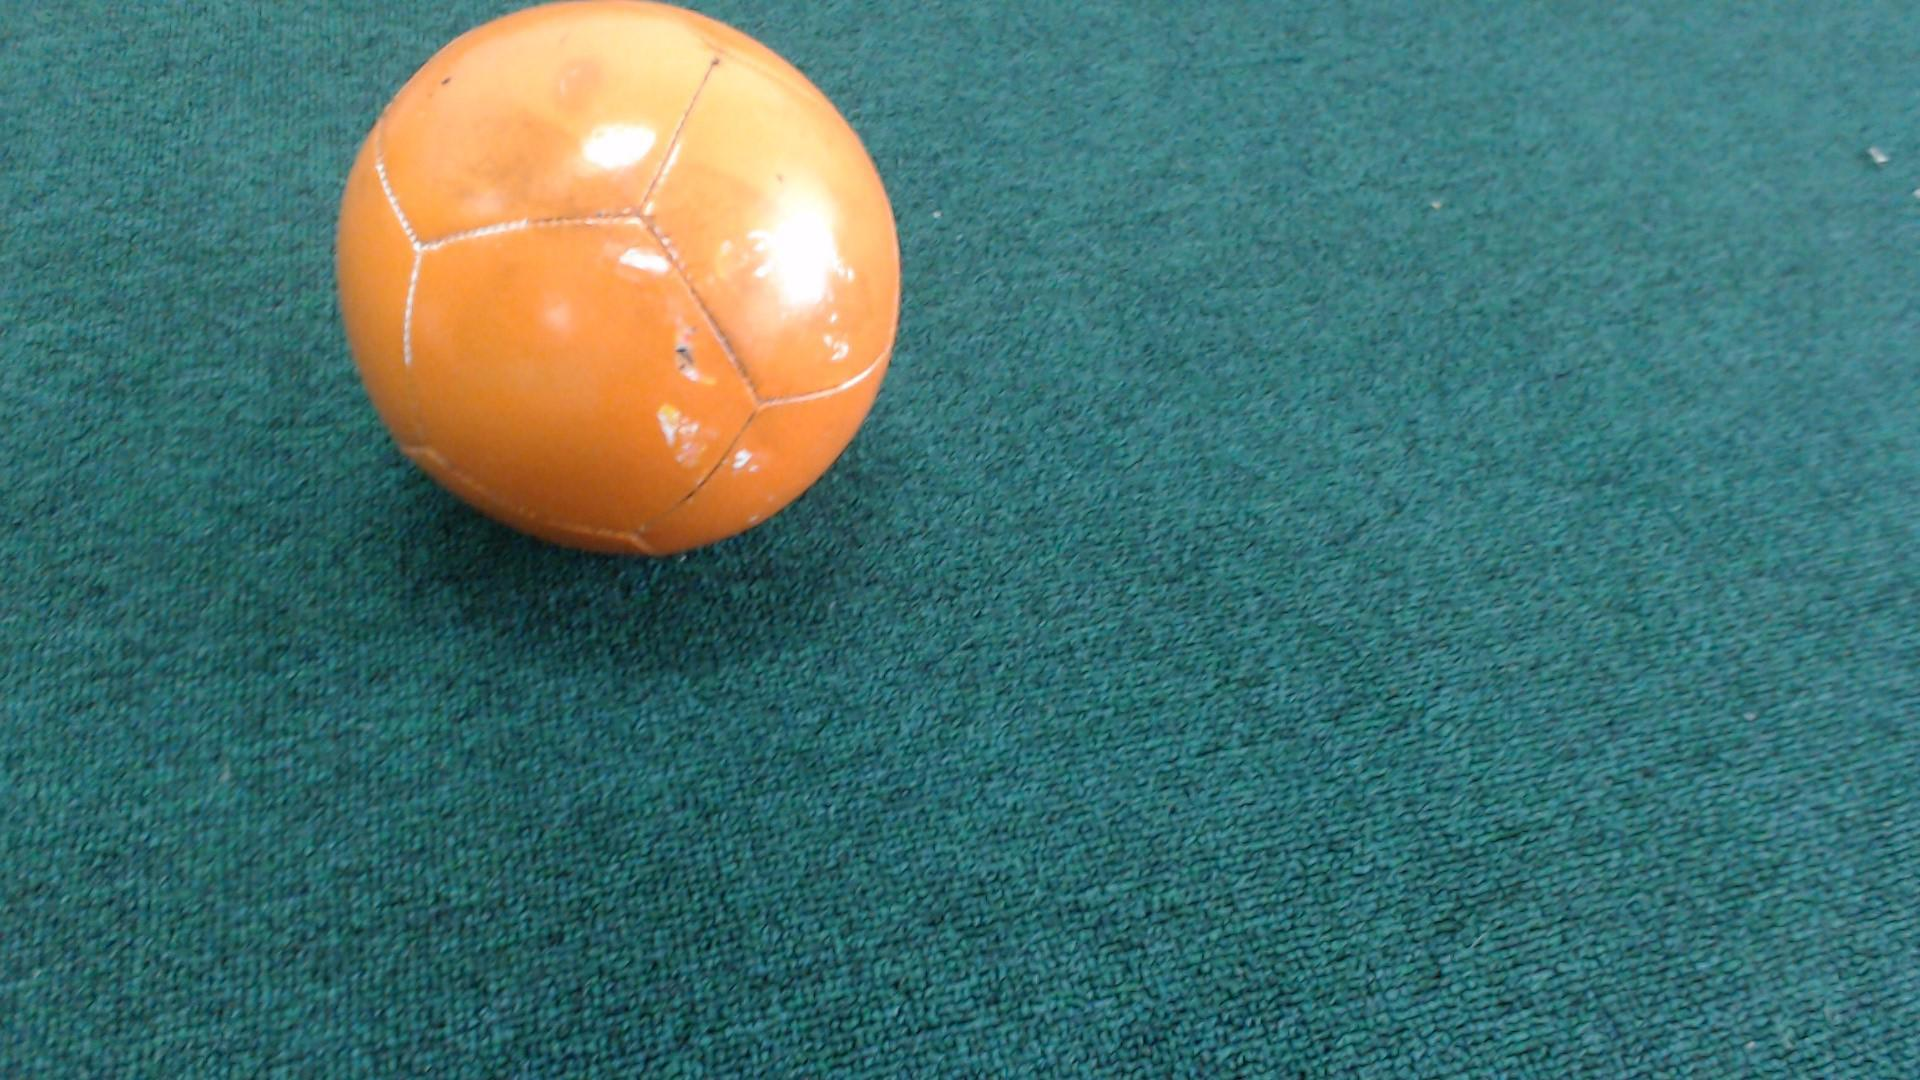bola: (306, 0, 943, 628)
